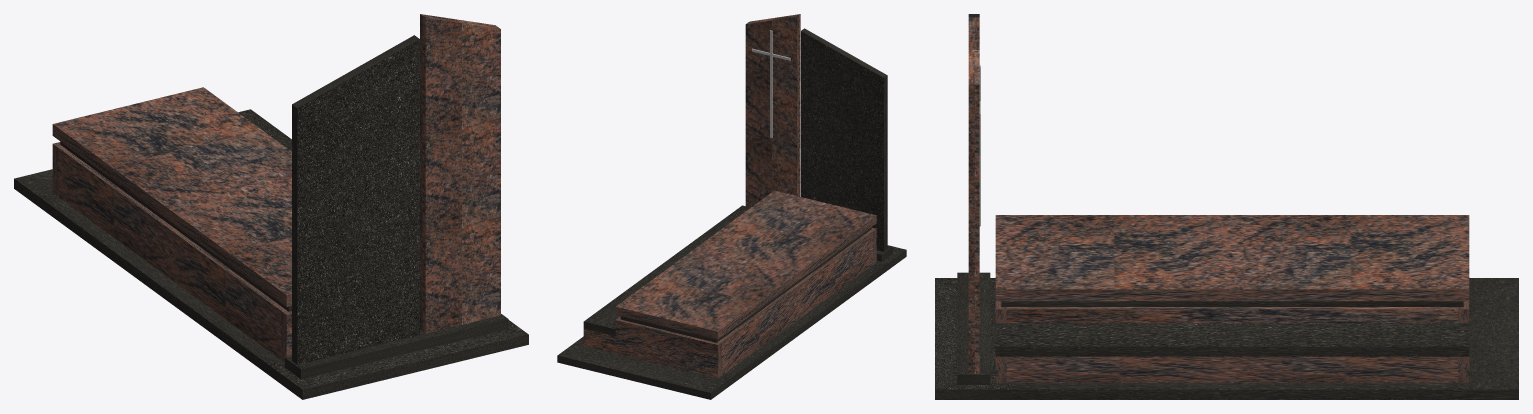
Rendered from nadgr3.glb.
3 views of the same model, side by side, from view 1: azimuth 30°, elevation 25°; view 2: azimuth 150°, elevation 25°; view 3: azimuth 270°, elevation 25° (orthographic). The views are drawn at different scales.
Parts seen in each view (by area): view 1: Object_3, Object_2; view 2: Object_3, Object_2, Object_4; view 3: Object_3, Object_2.
Boxes of the visible parts, <box> form: Object_3: <box>52,14,500,362</box>; Object_2: <box>14,35,528,399</box>; Object_3: <box>583,14,876,378</box>; Object_2: <box>557,28,906,399</box>; Object_4: <box>752,30,790,137</box>; Object_3: <box>968,17,1469,382</box>; Object_2: <box>935,14,1518,399</box>.
Size of the model in its own units: 1200 by 1702 by 2650.
3 materials, 2 textured.
